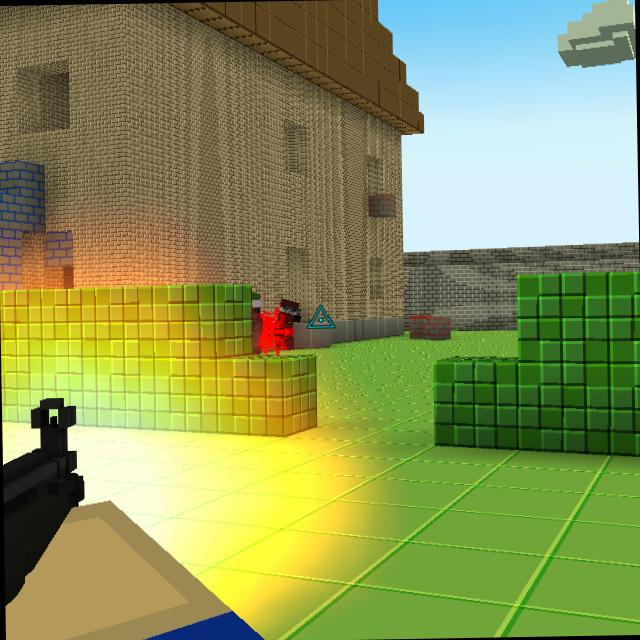enemy: (276, 295, 302, 352), (250, 288, 264, 354)
